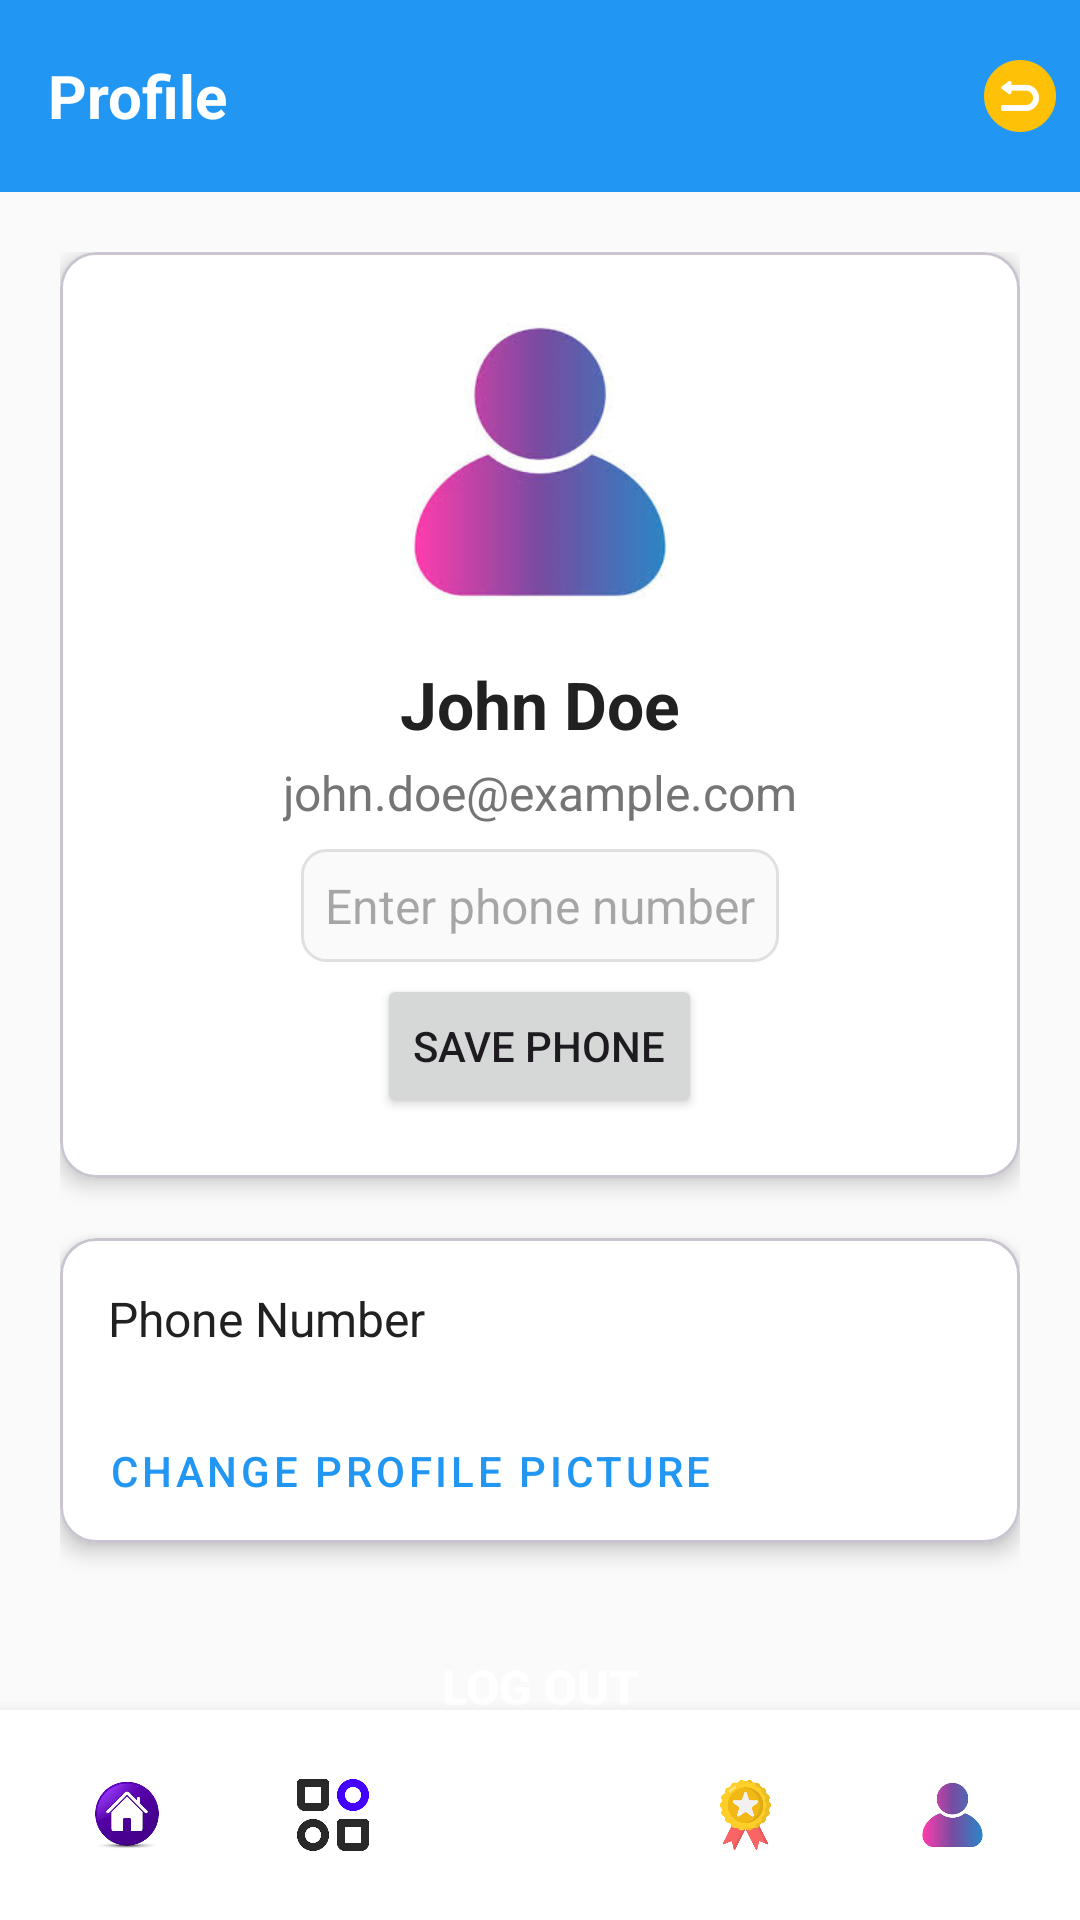

Where to tap for icons on this 1080w x 1920h app screen, as [x,y]:
Achievements: [745,1815]
Categories: [333,1815]
Home: [127,1815]
Profile: [952,1815]
Profile Picture: [540,462]
